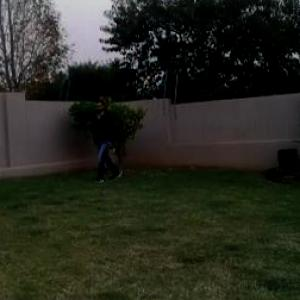follow: (90, 93, 116, 184)
